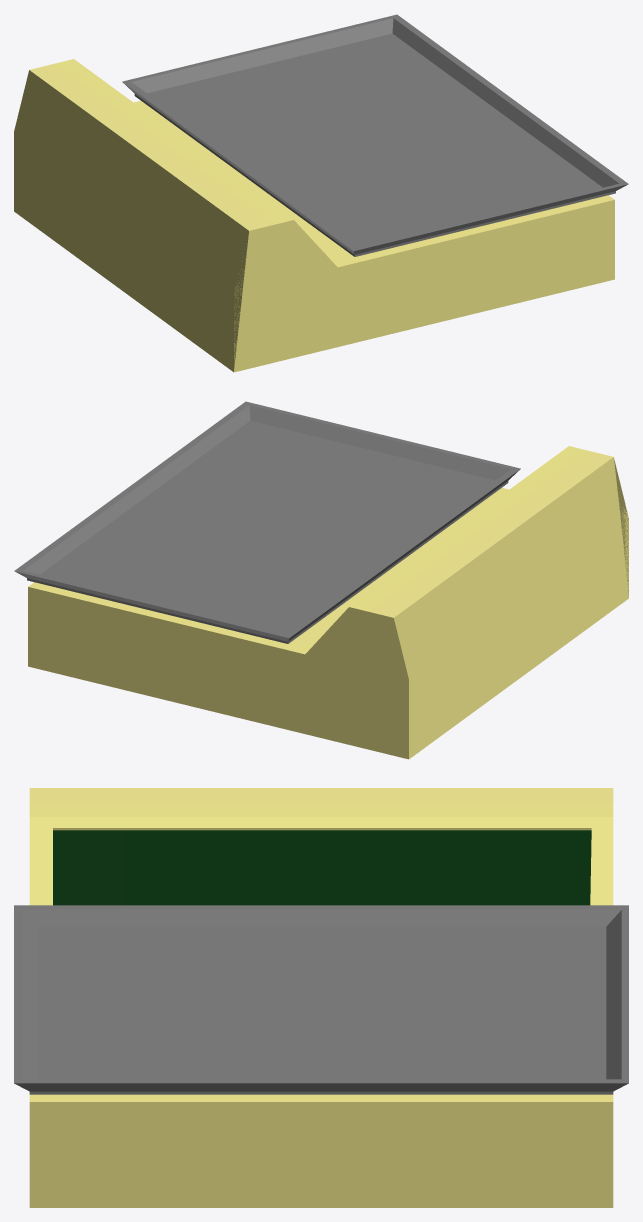
File: Balanza.fbx
The picture shows the model from 3 angles, top to bottom: view 1: azimuth 30°, elevation 25°; view 2: azimuth 150°, elevation 25°; view 3: azimuth 270°, elevation 25°; orthographic projection. The views are drawn at different scales.
Visible parts, largest first — view 1: Balanza; view 2: Balanza; view 3: Balanza.
Boxes of the visible parts, <box> form: Balanza: <box>14,14,628,372</box>; Balanza: <box>14,401,628,759</box>; Balanza: <box>14,788,628,1207</box>.
Bounding box in the file's own units: 511 × 173 × 527.
Materials: 2 (2 with a texture image).
